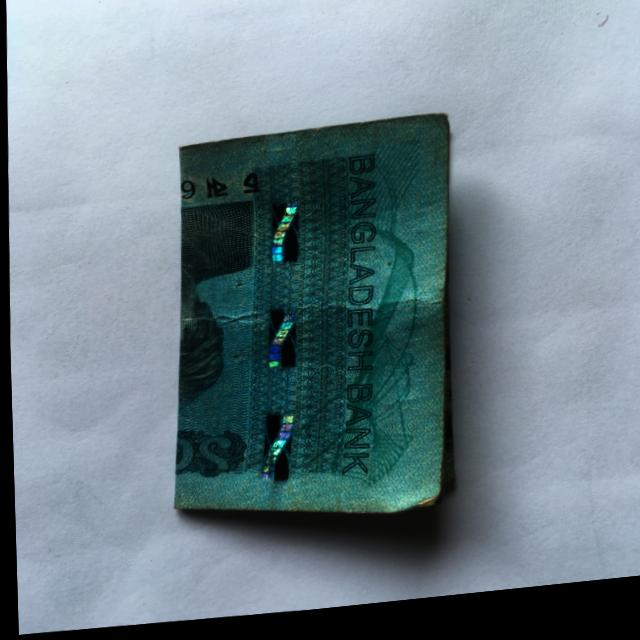Taka: (161, 116, 465, 541)
